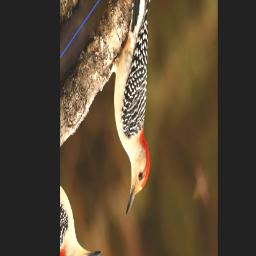Woodpecker: (75, 0, 200, 217)
